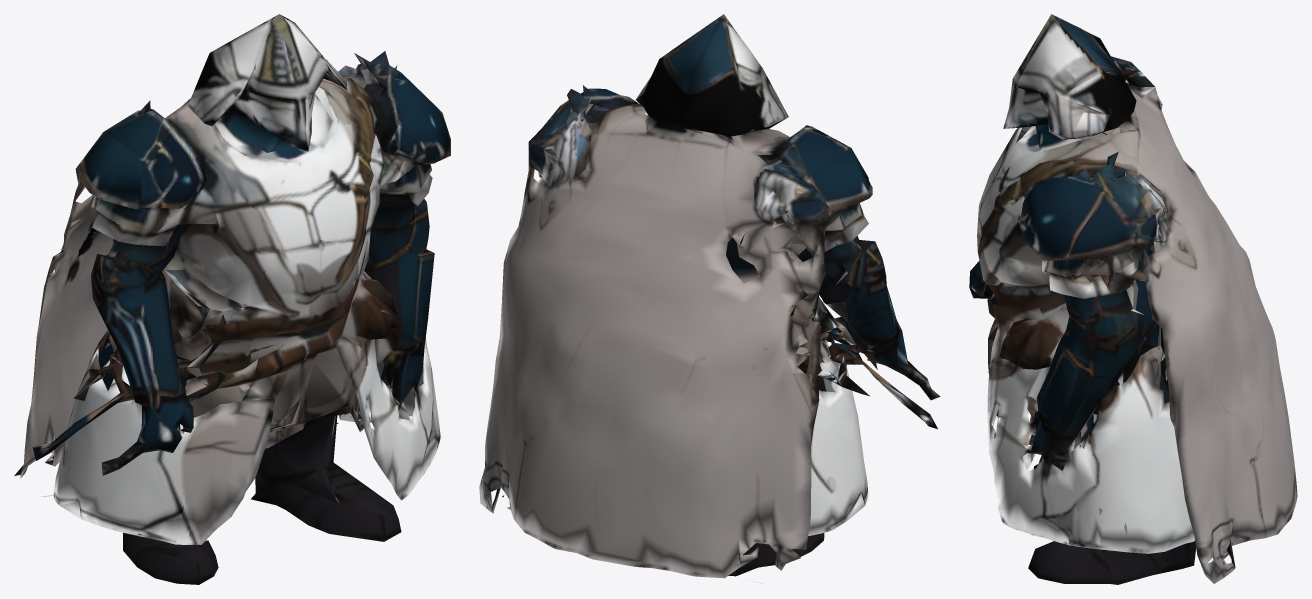
Rendered from covenant_transmuter.glb.
The picture shows the model from 3 angles, left to right: view 1: azimuth 30°, elevation 25°; view 2: azimuth 150°, elevation 25°; view 3: azimuth 270°, elevation 25°; orthographic projection. The views are drawn at different scales.
Parts seen in each view (by area): view 1: LP_baked; view 2: LP_baked; view 3: LP_baked.
Boxes of the visible parts, x1=… form: LP_baked: x1=14, y1=14, x2=450, y2=584; LP_baked: x1=479, y1=14, x2=940, y2=583; LP_baked: x1=969, y1=14, x2=1297, y2=584.
Size of the model in its own units: 1.65 by 2.03 by 1.17.
Materials: 1 (1 with a texture image).
